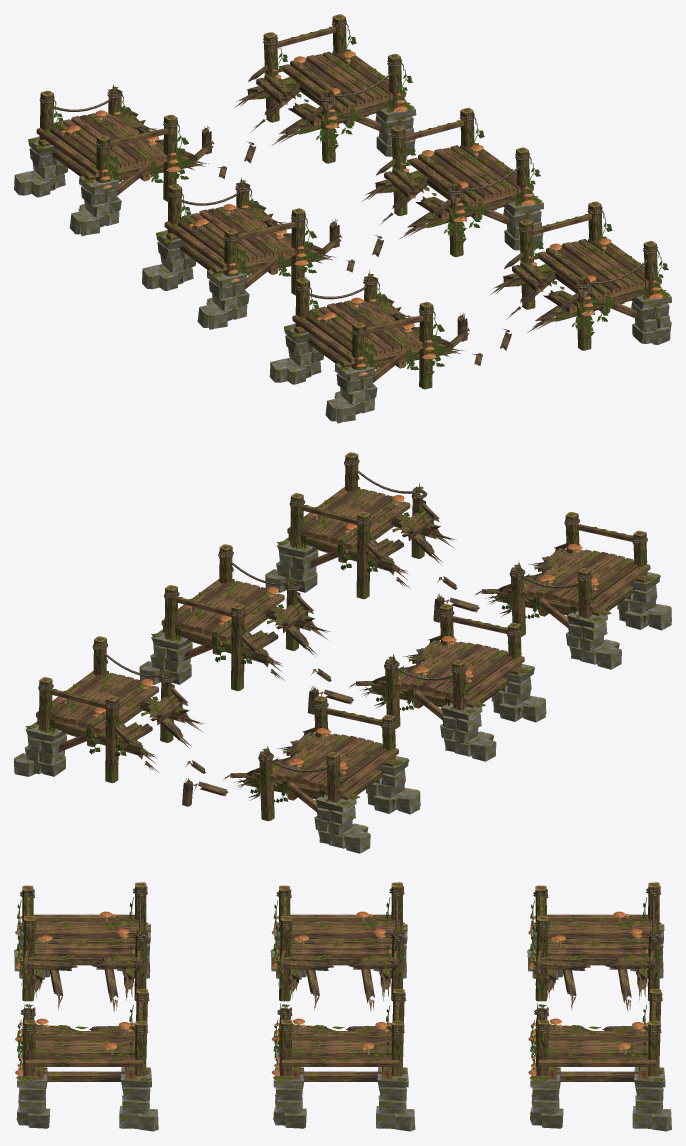
File: Reuse_3_Instances_v2.glb
3 views of the same model, one above another, from view 1: azimuth 30°, elevation 25°; view 2: azimuth 150°, elevation 25°; view 3: azimuth 270°, elevation 25° (orthographic). The views are drawn at different scales.
Visible parts, largest first — view 1: SM_BrokenBridge_v2, BrokenBridge_03, BrokenBridge_02; view 2: BrokenBridge_03, BrokenBridge_02, SM_BrokenBridge_v2; view 3: BrokenBridge_03, SM_BrokenBridge_v2, BrokenBridge_02.
Part boxes in pixels (left/top/right/bottom): SM_BrokenBridge_v2: left=269, top=201, right=671, bottom=423; BrokenBridge_03: left=14, top=14, right=416, bottom=236; BrokenBridge_02: left=142, top=108, right=543, bottom=329; BrokenBridge_03: left=14, top=636, right=420, bottom=853; BrokenBridge_02: left=139, top=544, right=546, bottom=761; SM_BrokenBridge_v2: left=265, top=452, right=671, bottom=669; BrokenBridge_03: left=527, top=882, right=671, bottom=1131; SM_BrokenBridge_v2: left=14, top=882, right=158, bottom=1131; BrokenBridge_02: left=270, top=882, right=415, bottom=1131.
Bounding box in the file's own units: 11.89 × 3.22 × 19.23.
1 material, 1 textured.
